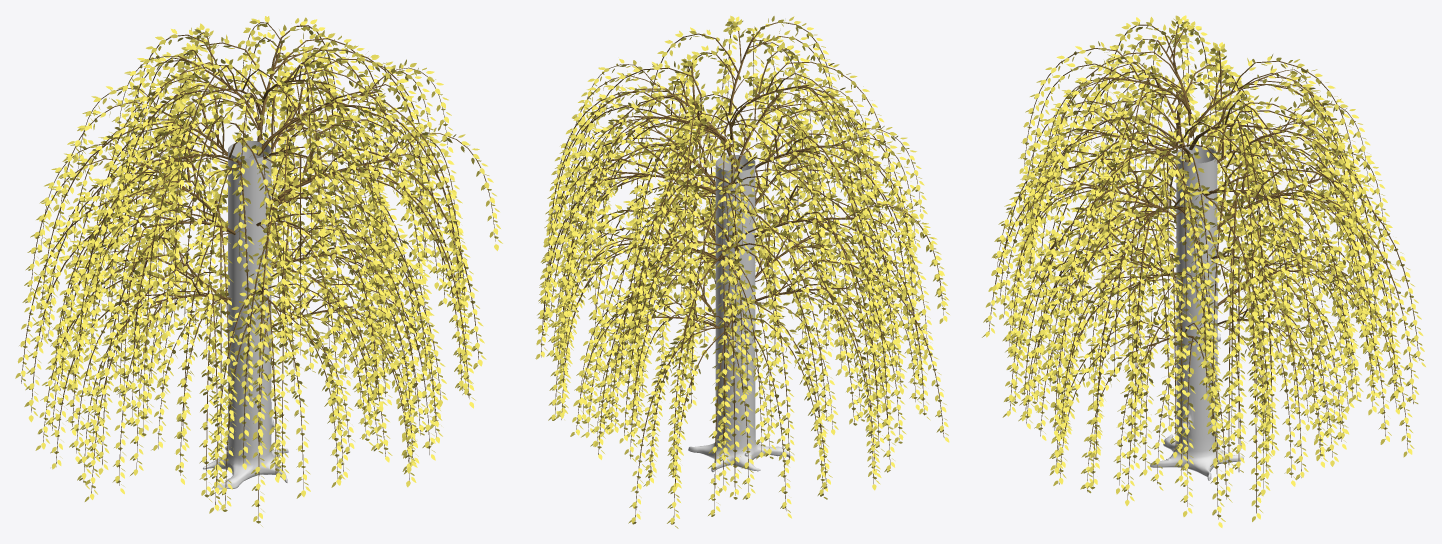
The model's file is MaxtreeUltra.FBX.
The picture shows the model from 3 angles, left to right: view 1: azimuth 30°, elevation 25°; view 2: azimuth 150°, elevation 25°; view 3: azimuth 270°, elevation 25°; orthographic projection. The views are drawn at different scales.
Visible parts, largest first — view 1: Foliage001, Turbotree; view 2: Foliage001, Turbotree; view 3: Foliage001, Turbotree.
Part boxes in pixels (x1=…): Foliage001: x1=15, y1=16, x2=502, y2=526; Turbotree: x1=203, y1=140, x2=288, y2=489; Foliage001: x1=535, y1=15, x2=949, y2=528; Turbotree: x1=688, y1=155, x2=791, y2=472; Foliage001: x1=982, y1=15, x2=1425, y2=527; Turbotree: x1=1150, y1=146, x2=1243, y2=480.
Size of the model in its own units: 398 by 407 by 385.
